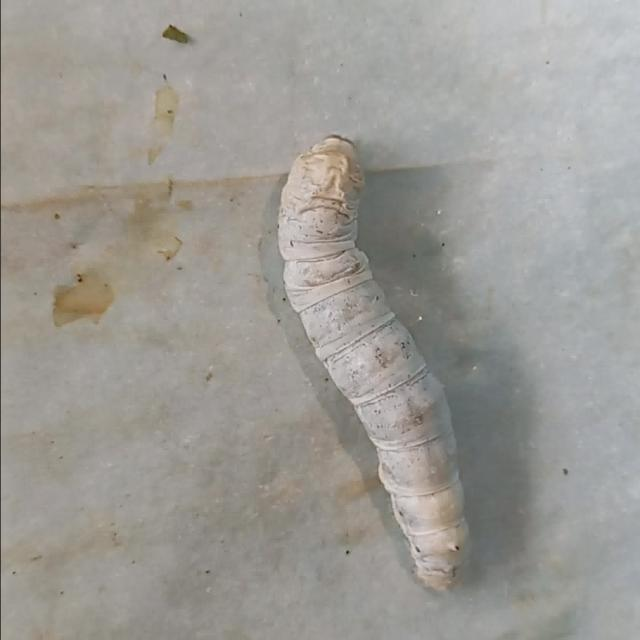Grasserie: (268, 119, 480, 594)
